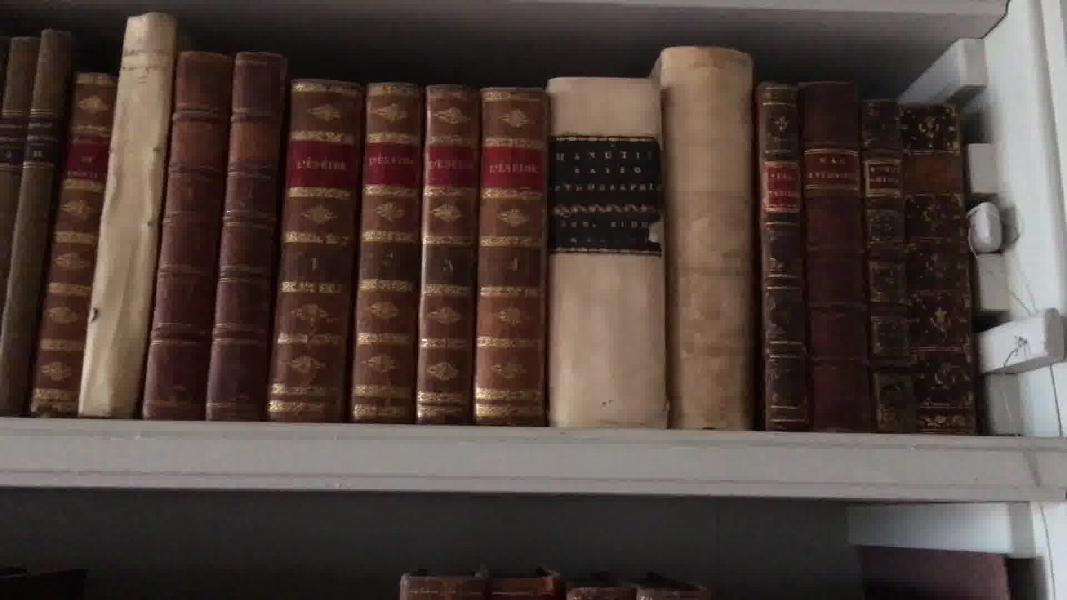Kk4-17_18: (1, 25, 74, 434)
Kk4-19: (24, 57, 113, 420)
Kk4-20: (75, 9, 175, 435)
Kk4-21_22: (135, 38, 293, 442)
Kk4-23_26: (261, 62, 551, 438)
Kk4-27: (543, 52, 674, 436)
Kk4-28: (648, 39, 769, 435)
Kk4-29: (747, 70, 812, 448)
Kk4-30: (793, 69, 878, 444), (855, 89, 920, 443)
Kk4-32: (896, 90, 989, 436)
